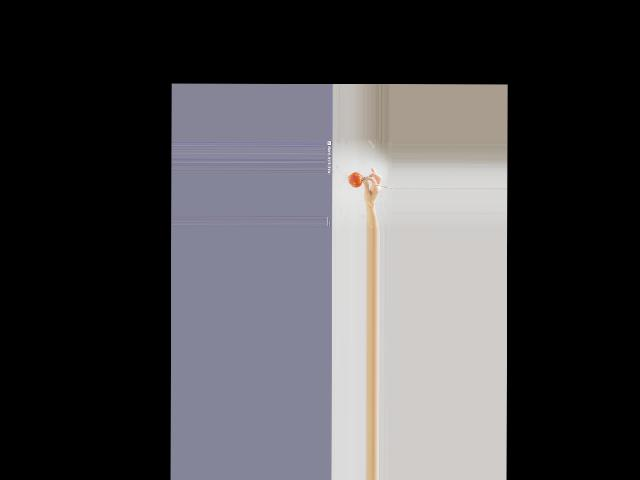tomato: (347, 173, 362, 188)
